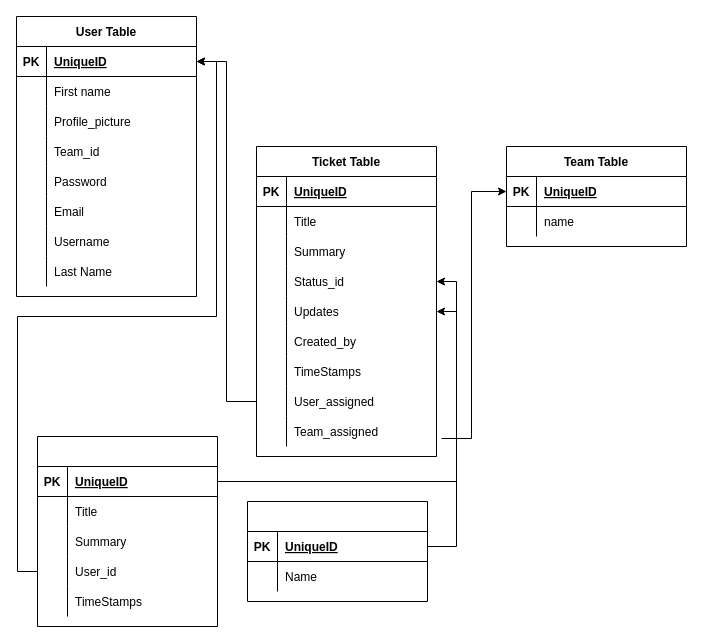
Image size: 703x643. Some labels were removed from this diagram. The box of each missing label's shape, as (x1, y1, x2, y2) in pixels:
Status Table: (246, 500, 428, 602)
Updates Table: (36, 436, 218, 626)
